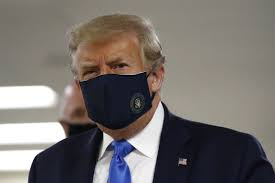mask: (68, 12, 168, 140)
